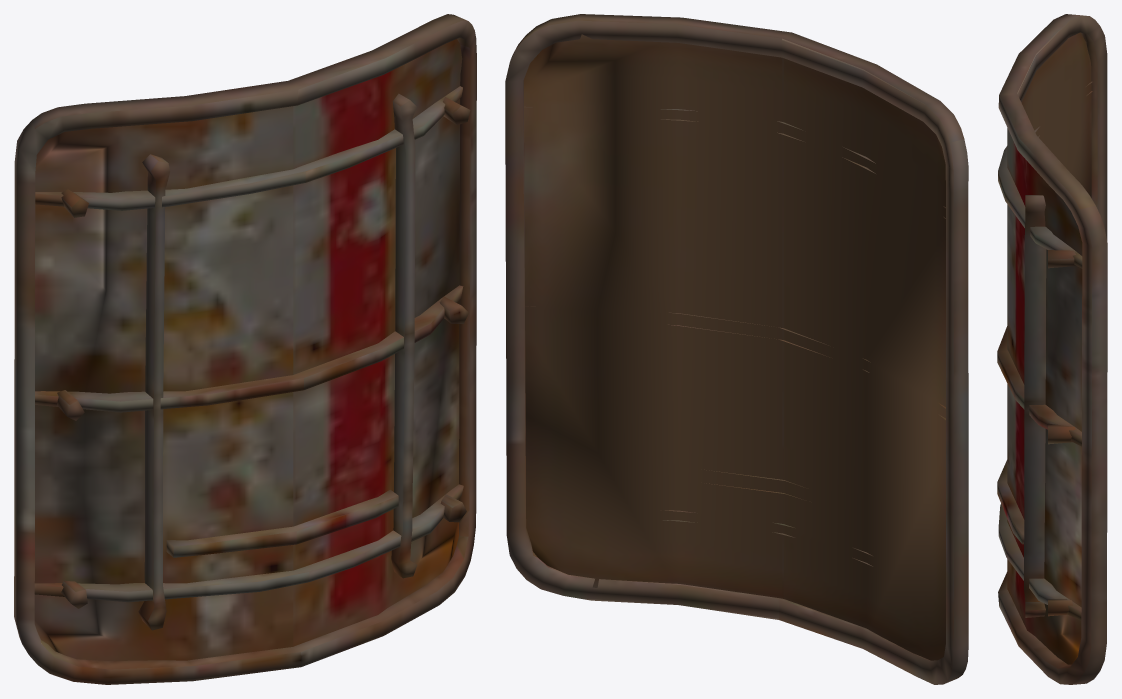
The model's file is m_shield_clan.fbx.
3 views of the same model, side by side, from view 1: azimuth 30°, elevation 25°; view 2: azimuth 150°, elevation 25°; view 3: azimuth 270°, elevation 25° (orthographic). The views are drawn at different scales.
Visible parts, largest first — view 1: tripo_node_c49152cf-2c12-4759-a217-84dd415fa20a; view 2: tripo_node_c49152cf-2c12-4759-a217-84dd415fa20a; view 3: tripo_node_c49152cf-2c12-4759-a217-84dd415fa20a.
Boxes of the visible parts, <box> form: tripo_node_c49152cf-2c12-4759-a217-84dd415fa20a: <box>14,14,476,684</box>; tripo_node_c49152cf-2c12-4759-a217-84dd415fa20a: <box>505,14,968,684</box>; tripo_node_c49152cf-2c12-4759-a217-84dd415fa20a: <box>997,14,1107,684</box>.
Bounding box in the file's own units: 0.703 × 0.85 × 0.1657.
1 material, 1 textured.
